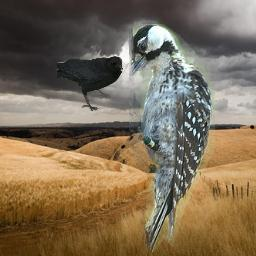Crow: (57, 56, 123, 111)
Woodpecker: (129, 24, 215, 252)
